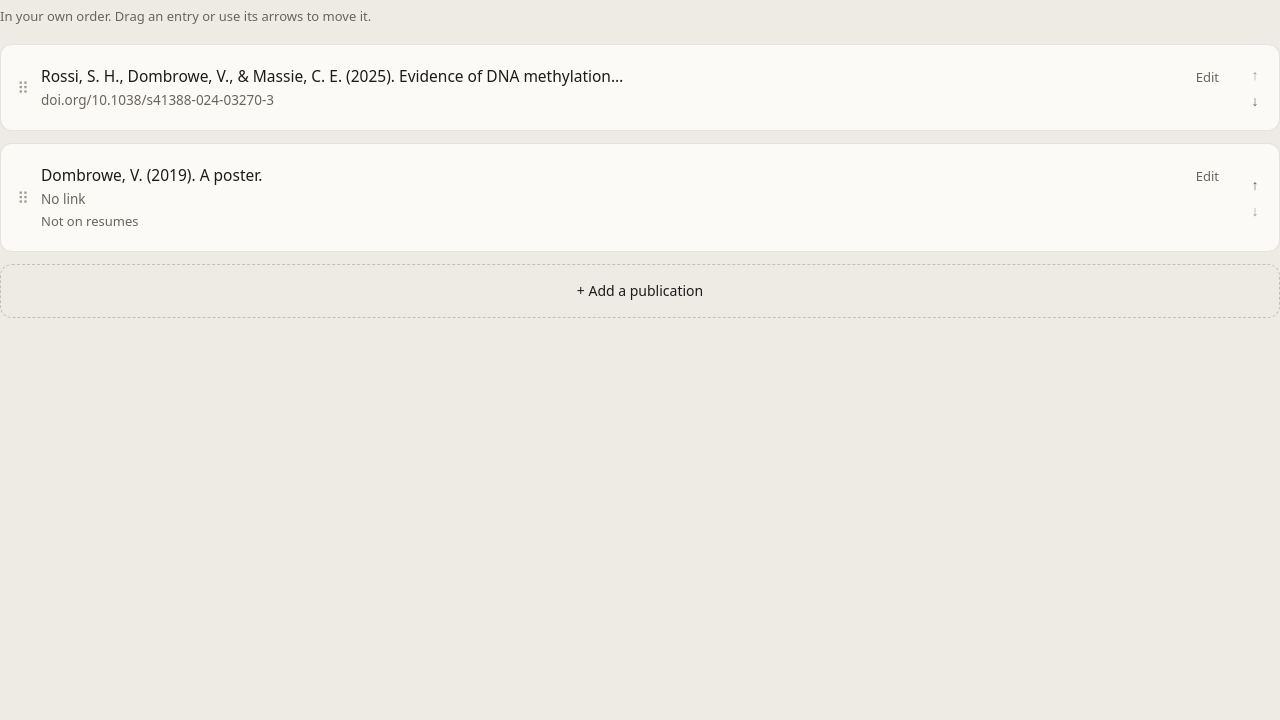
Test: PublicationsSection (#218) › shows how the citation looks, and makes words bold and italic with B, I and the keyboard
The image size is (1280, 720).
Click the button "Dombrowe, V. (2019). A poster. No link Not on resumes Edit": (152, 175) [29,144,1243,251]
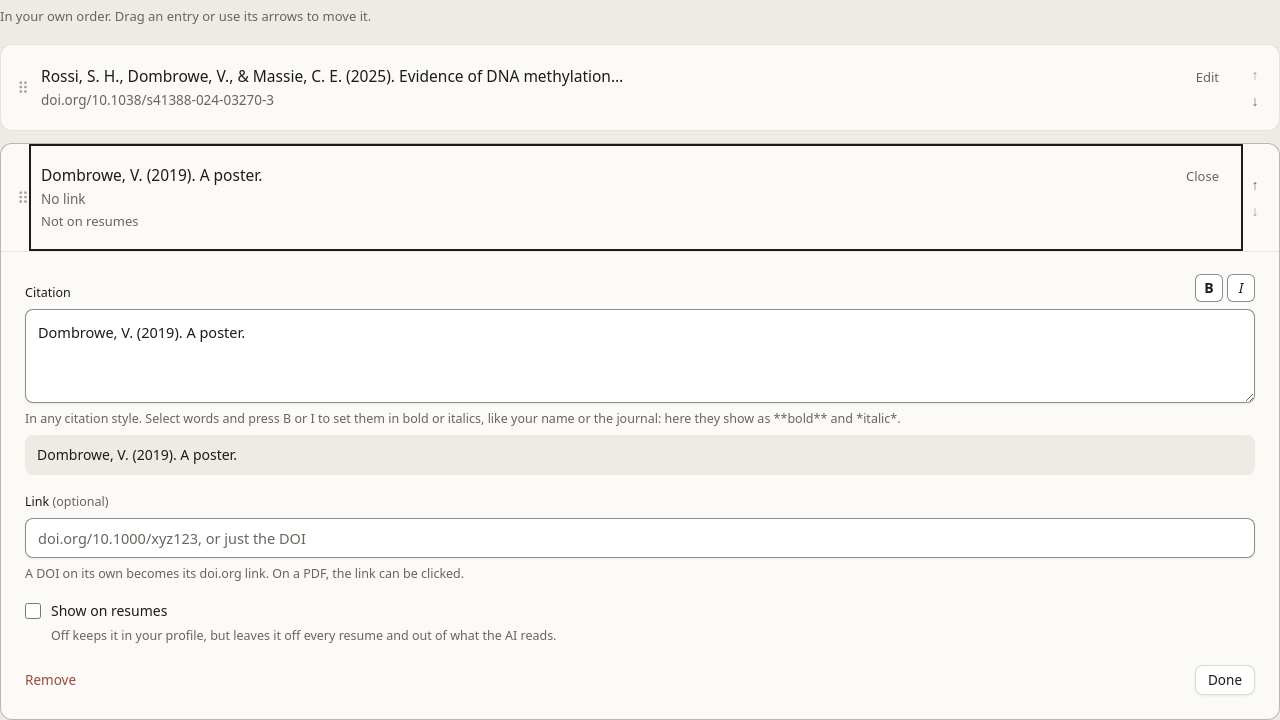
Click the button named "Bold": (1209, 288) [1195,274,1223,302]
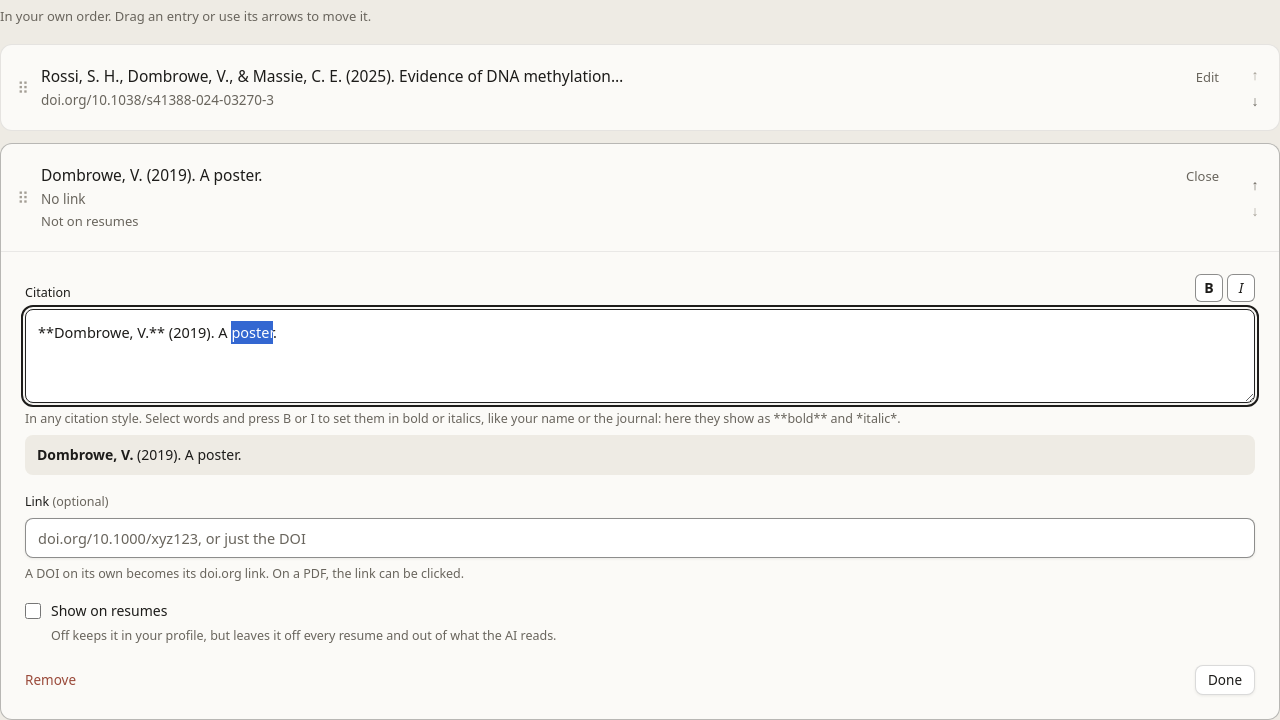
Now the text box labelled "Citation" holds "**Dombrowe, V.** (2019). A poster.", box [25,309,1255,403]
Type keys "{Control>}i{/Control}"
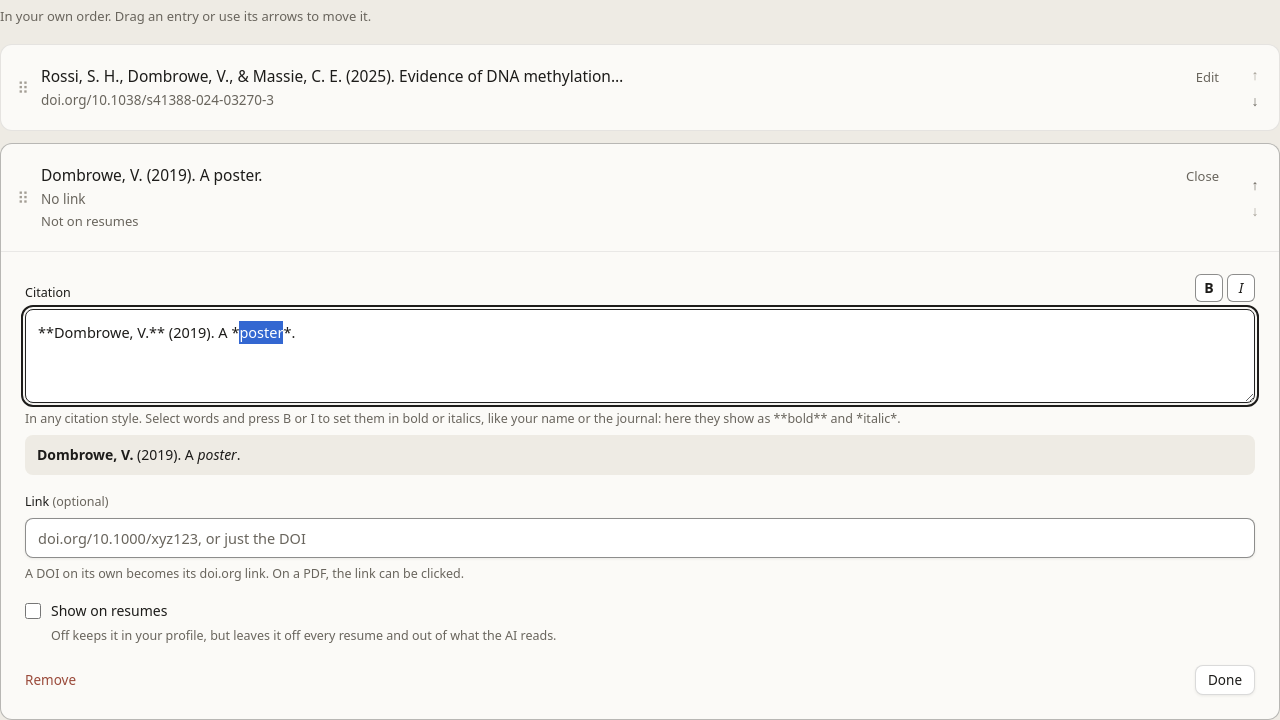
Now the text box labelled "Citation" holds "**Dombrowe, V.** (2019). A *poster*.", box [25,309,1255,403]
